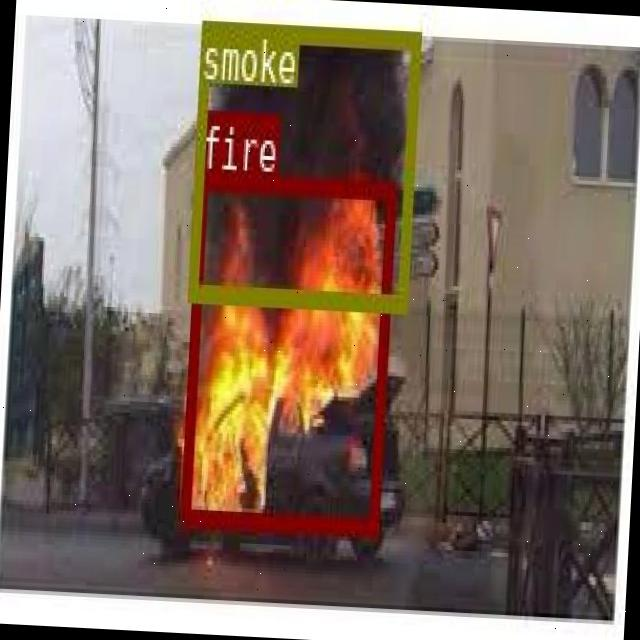fire: (180, 171, 394, 534)
smoke: (187, 20, 418, 308)
